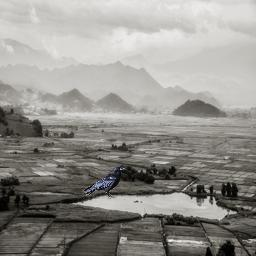Crow: (81, 165, 126, 200)
